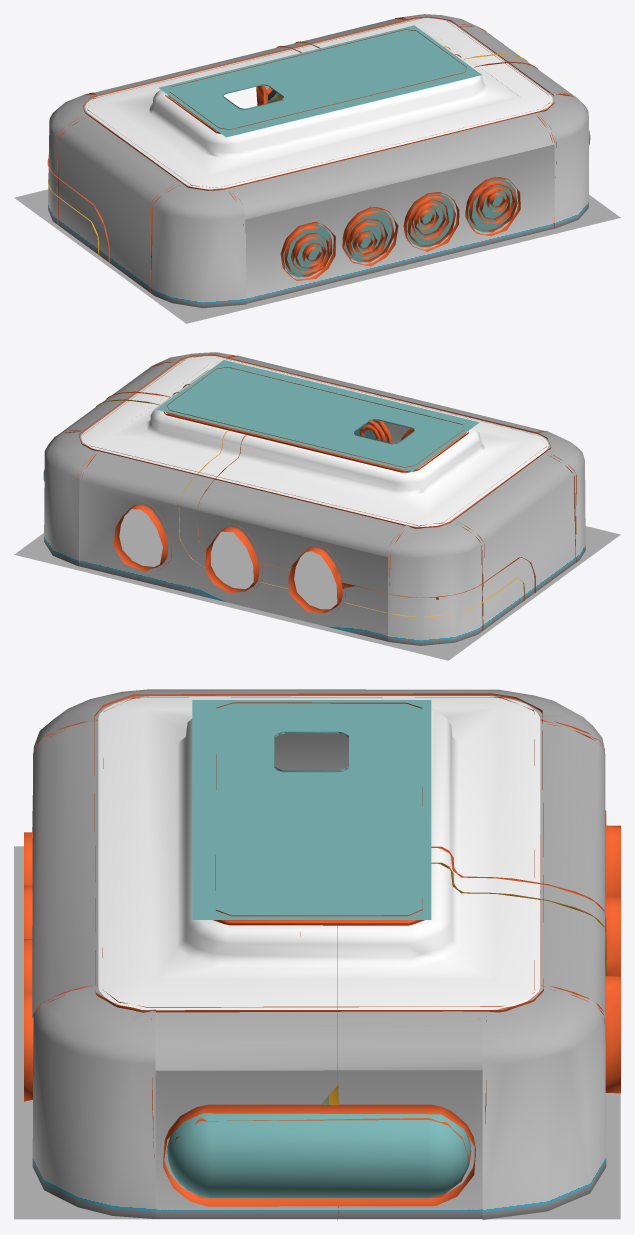
File: Archi_Collider(2).fbx
3 renders of one model, top to bottom at view 1: azimuth 30°, elevation 25°; view 2: azimuth 150°, elevation 25°; view 3: azimuth 270°, elevation 25°, orthographic. The views are drawn at different scales.
Parts seen in each view (by area): view 1: wall_egg.001; view 2: wall_egg.001; view 3: wall_egg.001.
Boxes of the visible parts, bbox=[...] form: wall_egg.001: bbox=[14, 14, 620, 323]; wall_egg.001: bbox=[14, 352, 620, 660]; wall_egg.001: bbox=[14, 689, 620, 1220].
Bounding box in the file's own units: 1044 × 282 × 682.
Materials: 3 (1 with a texture image).
